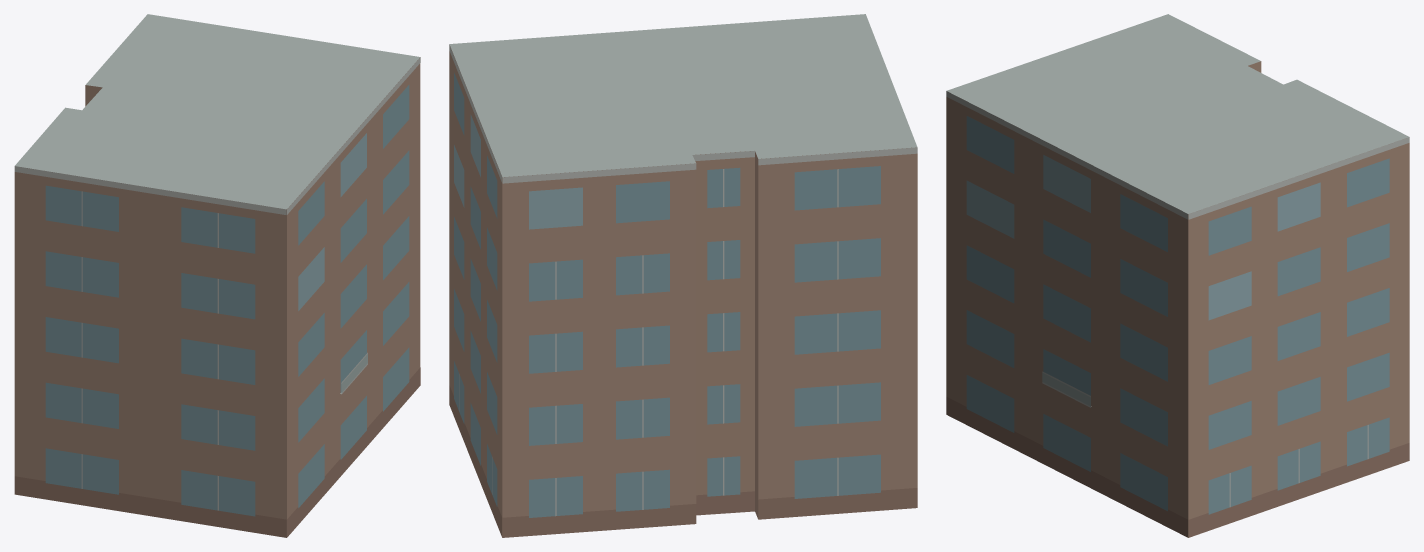
File: survey-upis-32845698.glb
3 views of the same model, side by side, from view 1: azimuth 30°, elevation 25°; view 2: azimuth 150°, elevation 25°; view 3: azimuth 270°, elevation 25° (orthographic). The views are drawn at different scales.
Visible parts, largest first — view 1: survey-upis-32845698.tmp; view 2: survey-upis-32845698.tmp; view 3: survey-upis-32845698.tmp.
Part boxes in pixels (x1,y1,x2,y2): survey-upis-32845698.tmp: [14, 14, 420, 537]; survey-upis-32845698.tmp: [449, 14, 917, 537]; survey-upis-32845698.tmp: [946, 14, 1409, 537].
Size of the model in its own units: 18.3 by 13.8 by 17.91.
